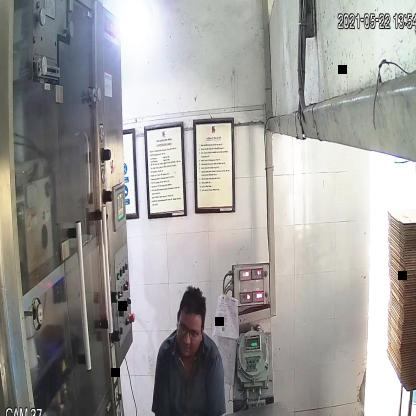goggles: (172, 315, 204, 344)
